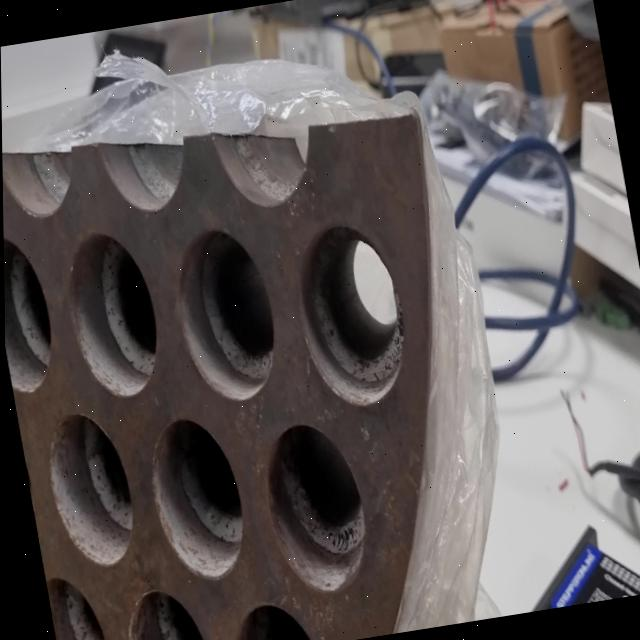Hole: (286, 214, 416, 412), (164, 222, 285, 410), (255, 416, 375, 600), (57, 226, 168, 404), (140, 412, 251, 586), (37, 406, 141, 574), (3, 229, 62, 396), (117, 581, 211, 640), (43, 569, 111, 640), (224, 592, 323, 640)
